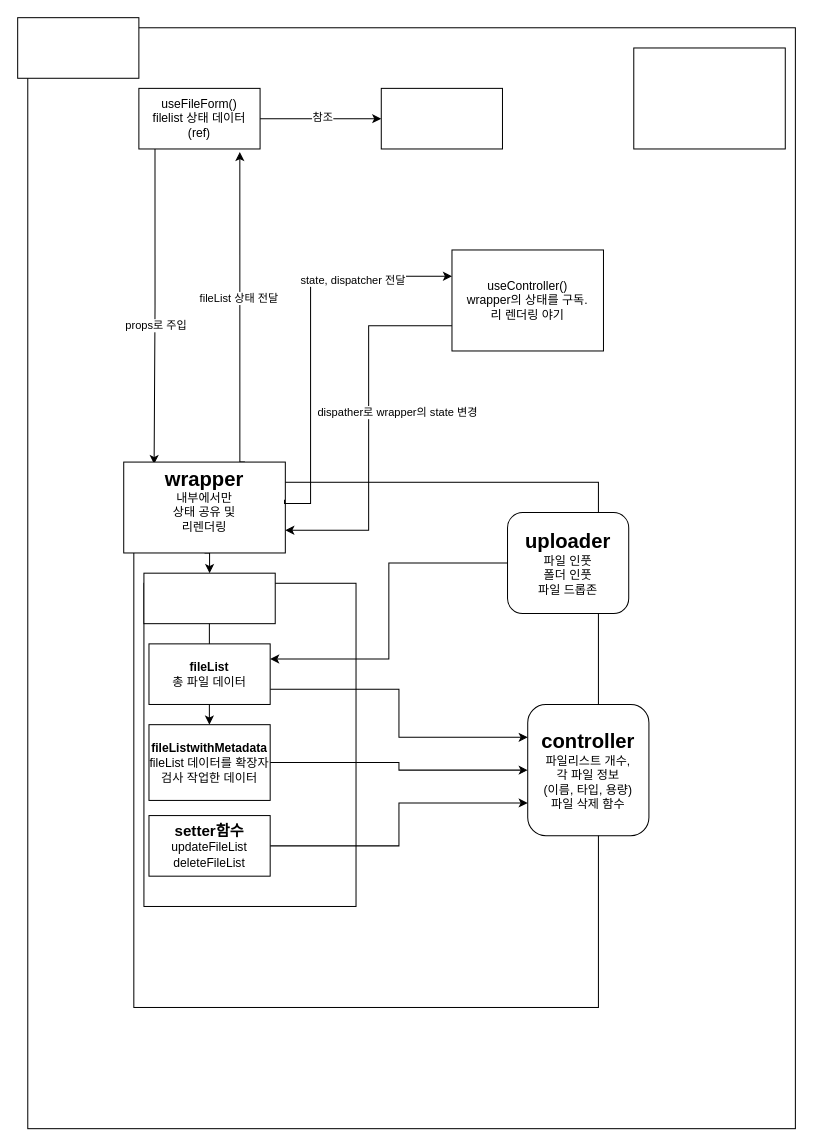
Image size: 813x1146. Some labels were removed from this diagram. The centre of each missing label's shape, as x and y in pixels:
"form" goes at (x=78, y=47).
"submitHandler validFileForm()" goes at (x=441, y=118).
"useState, useContext" goes at (x=209, y=598).
"util 함수 파일 확장자 검사 바이트 검사..." goes at (x=709, y=98).
